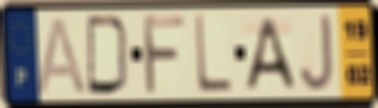A: (35, 15, 90, 96), (242, 15, 298, 92)
D: (85, 13, 132, 98)
F: (141, 12, 188, 97)
J: (297, 11, 336, 94)
L: (192, 12, 233, 96)
